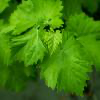grape leaf: (39, 35, 94, 94), (6, 17, 48, 66), (9, 0, 65, 35), (40, 27, 64, 59)
